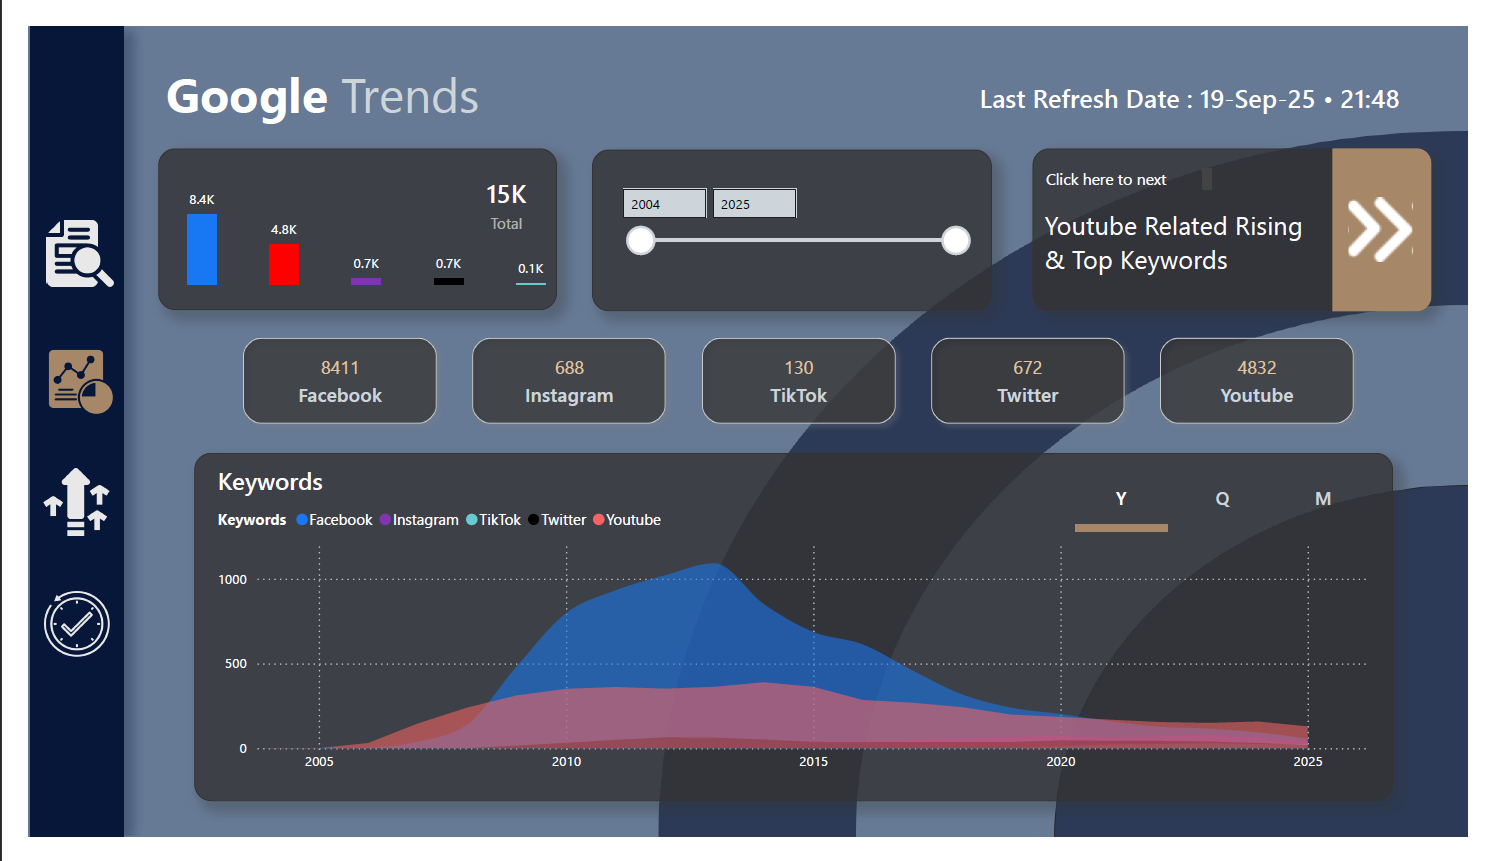

The dashboard page shown, as its layout file describes it:
{"tool":"powerbi","page":{"name":"Keyword by Date","canvas":[1280,720],"ordinal":1},"visuals":[{"type":"shape","box":[892.5,108.3,355.8,144.2],"z":0},{"type":"shape","box":[501.4,108.6,355.7,144.3],"z":1000},{"type":"shape","box":[114.8,108.1,355,144],"z":2000},{"type":"shape","box":[147.1,379,1067.1,310],"z":3000},{"type":"shape","box":[1.4,0,82.9,720],"z":4000},{"type":"areaChart","title":"Keywords","fields":{"Category":["By_Date.Year"],"Y":["By_Date.By_Date_Value"],"Series":["By_Date.Keywords"]},"box":[162.9,389,1037.1,282.9],"z":5000},{"type":"actionButton","box":[1160,108.3,88.3,144.2],"z":6000},{"type":"textbox","box":[900,121.4,157.1,32.9],"z":7000},{"type":"advancedSlicerVisual","fields":{"Values":["Dynamic_Date.Dynamic_Date"]},"box":[926.2,382.5,271.2,71.2],"z":8000},{"type":"advancedSlicerVisual","fields":{"Values":["By_Date.Keywords"]},"box":[174.3,260,1024.3,110],"z":9000},{"type":"columnChart","fields":{"Category":["By_Date.Keywords"],"Y":["By_Date.By_Date_Value"]},"box":[136.3,132.4,331.4,102.9],"z":10000},{"type":"cardVisual","fields":{"Data":["By_Date.By_Date_Value"]},"box":[391.6,128,66.2,63.8],"z":11000},{"type":"slicer","fields":{"Values":["By_Date.Year"]},"box":[515.7,134.3,330,102.9],"z":12000},{"type":"card","fields":{"Values":["Min(Refresh_Date.Refresh_Date)"]},"box":[808.3,23.3,450,83.3],"z":13000},{"type":"shape","box":[904.3,157.2,235.1,66.8],"z":14000},{"type":"actionButton","box":[5.7,121.4,70,71.4],"z":15000},{"type":"textbox","box":[117.1,25.7,318.6,78.6],"z":16000},{"type":"image","box":[6.7,387.9,70,70],"z":18000},{"type":"image","box":[7.8,495.7,70,70],"z":19000},{"type":"image","box":[11.4,167.1,69,69],"z":20000},{"type":"image","box":[10,280,72,72],"z":21000}]}

Visuals, with their boxes on the page's 1280x720 design canvas (x1, y1, x2, y2). These are canvas units, not pixel positions in the 1493x861 screenshot, which may show the page scaled, cropped or inside an application window:
shape: rect(892, 108, 1248, 252)
shape: rect(501, 109, 857, 253)
shape: rect(115, 108, 470, 252)
shape: rect(147, 379, 1214, 689)
shape: rect(1, 0, 84, 720)
"Keywords" areaChart: rect(163, 389, 1200, 672)
actionButton: rect(1160, 108, 1248, 252)
textbox: rect(900, 121, 1057, 154)
advancedSlicerVisual - Dynamic_Date.Dynamic_Date: rect(926, 382, 1197, 454)
advancedSlicerVisual - By_Date.Keywords: rect(174, 260, 1199, 370)
columnChart - By_Date.Keywords x By_Date.By_Date_Value: rect(136, 132, 468, 235)
cardVisual - By_Date.By_Date_Value: rect(392, 128, 458, 192)
slicer - By_Date.Year: rect(516, 134, 846, 237)
card - Min(Refresh_Date.Refresh_Date): rect(808, 23, 1258, 107)
shape: rect(904, 157, 1139, 224)
actionButton: rect(6, 121, 76, 193)
textbox: rect(117, 26, 436, 104)
image: rect(7, 388, 77, 458)
image: rect(8, 496, 78, 566)
image: rect(11, 167, 80, 236)
image: rect(10, 280, 82, 352)
